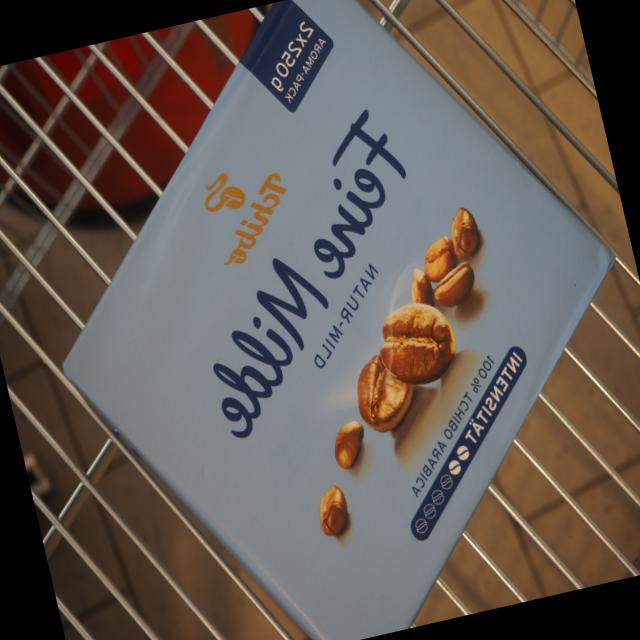FM Gemahlen: (54, 0, 618, 640)
